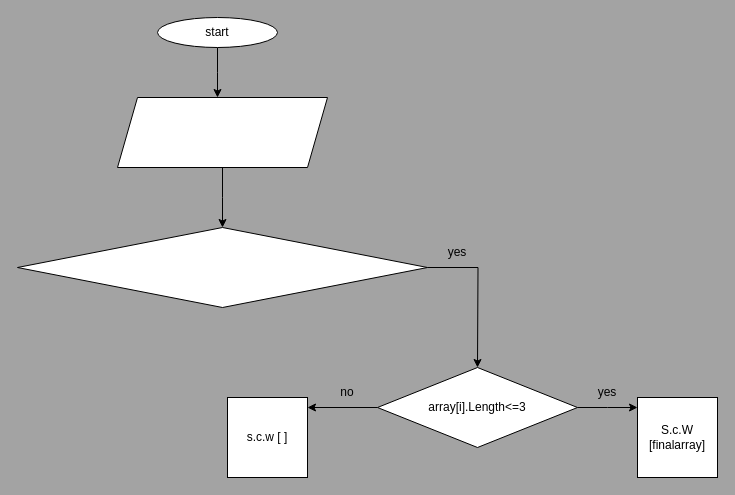
Some shapes in this 735 by 495 pixel diagram are drawn without their labels. The shapes that lost their labels are listed below. From the top down, each one's centre as x and y in pixels, then its label:
the point at 222,132: string[] array = CreatArray() string[] finalarray = 0; i = 0;
the point at 222,267: i<array.Length
